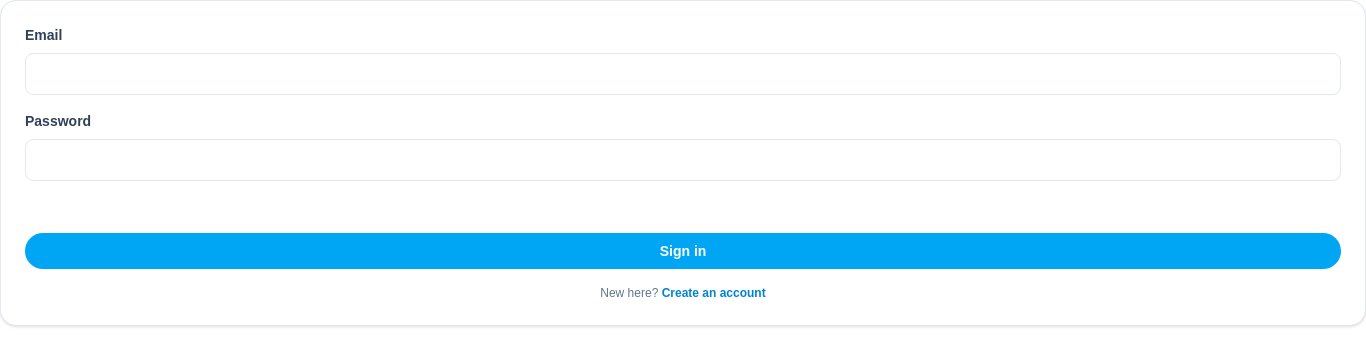
Test: SignInForm › shows a loading state while submitting
Type "alex@example.com" into the field labelled "Email". click: (683, 74)
box: top-left (25, 53), bottom-right (1341, 95)
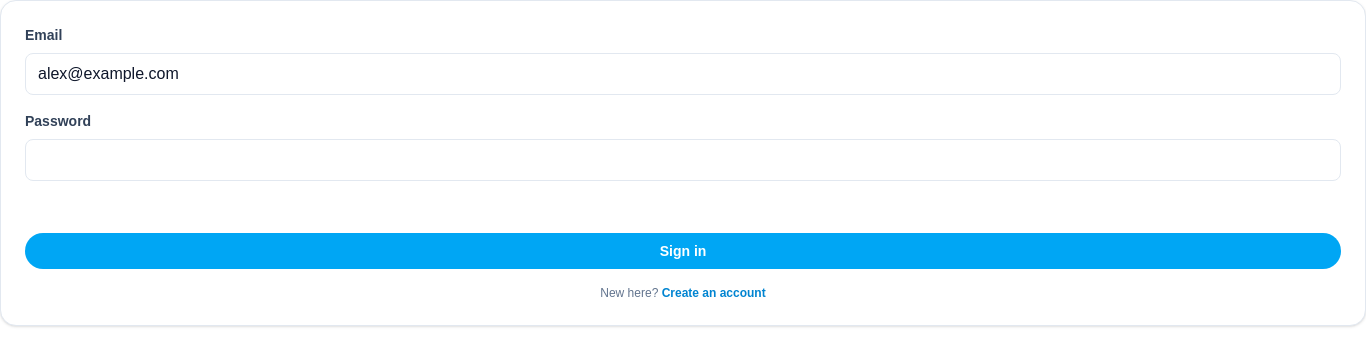
Type "secret" into the password field labelled "Password". click: (683, 160)
box: top-left (25, 139), bottom-right (1341, 181)
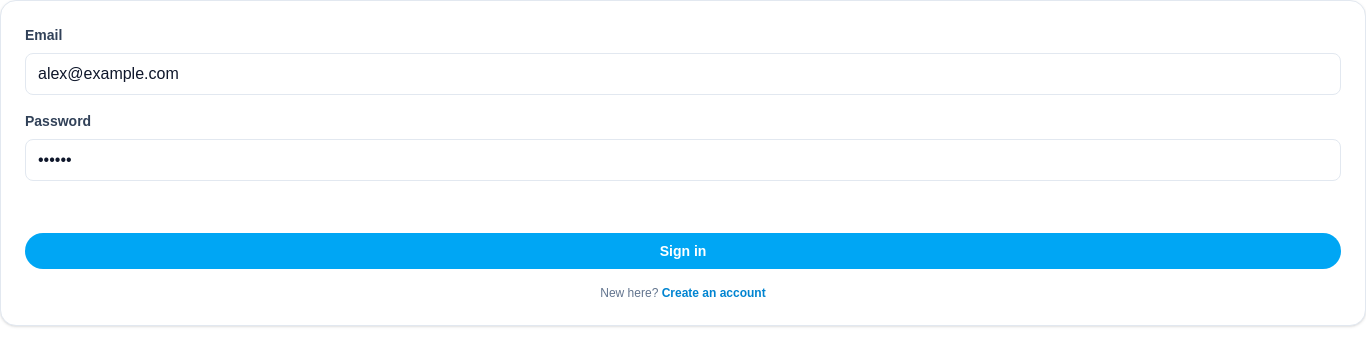
Click the button "Sign in". click: (683, 251)
box: top-left (25, 233), bottom-right (1341, 269)
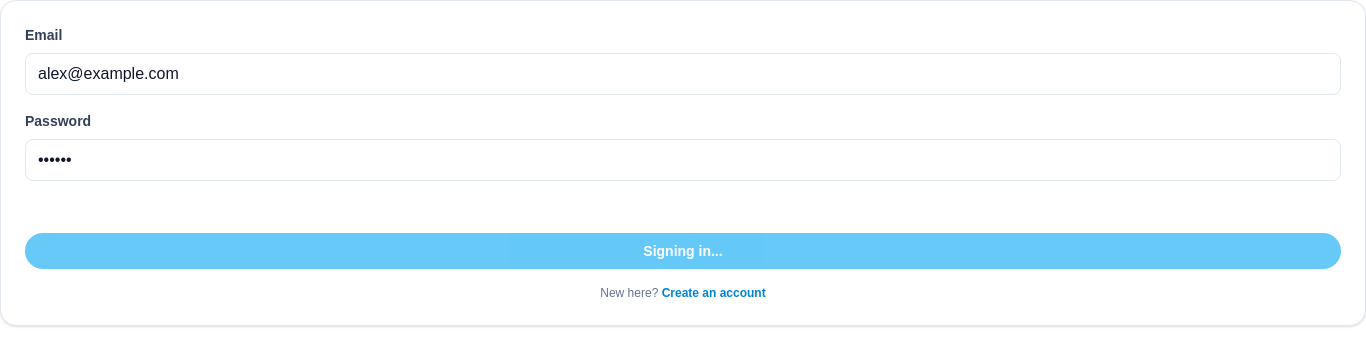
Expected: the button "Signing in..." is disabled, top-left (25, 233), bottom-right (1341, 269)
